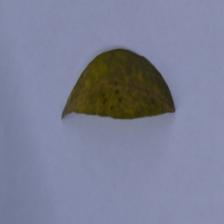greening: (60, 64, 99, 120)
